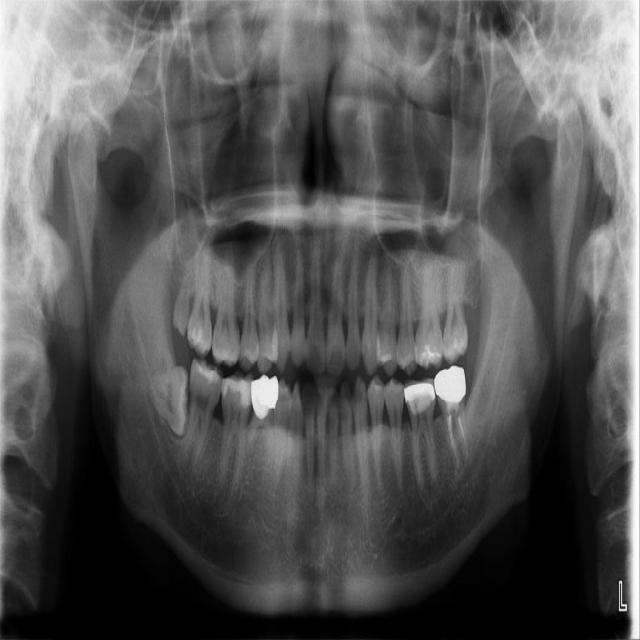Crown: (434, 365, 466, 414), (250, 373, 279, 418)
Filling: (146, 366, 188, 433), (403, 381, 436, 415), (223, 378, 250, 409), (188, 319, 210, 353), (416, 339, 440, 364), (443, 337, 464, 362), (195, 362, 219, 382)
Root Canal Treatment: (448, 418, 457, 458), (459, 415, 468, 454)
